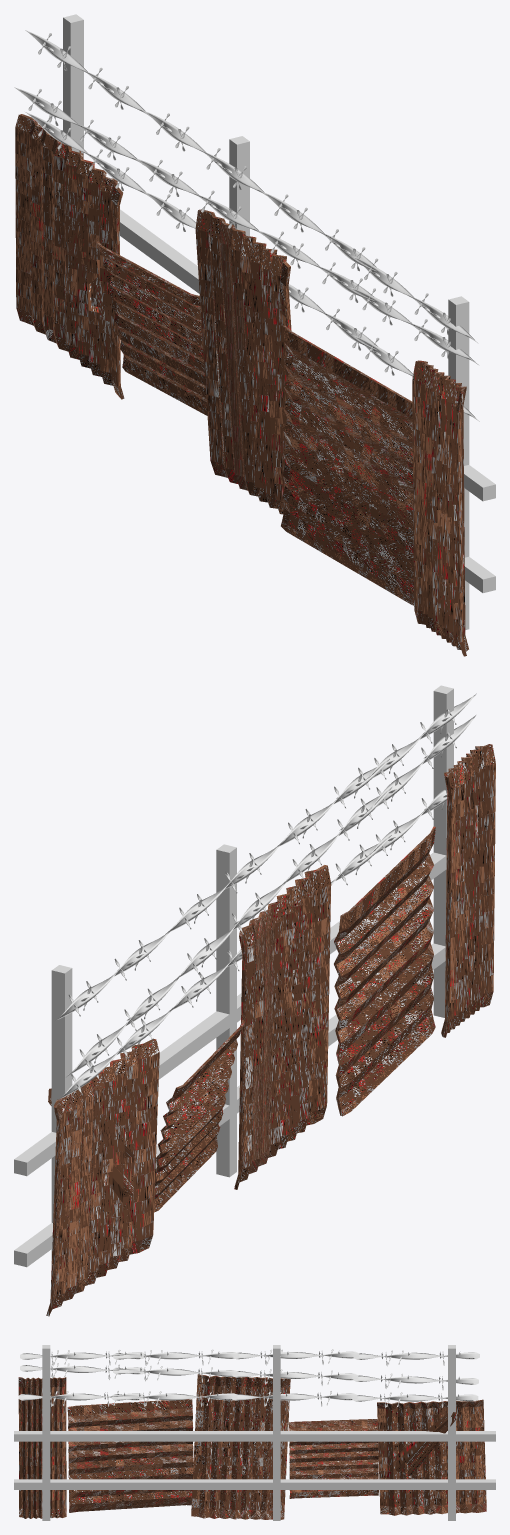
The model's file is cloture-fence-straight-regular.fbx.
3 renders of one model, top to bottom at view 1: azimuth 30°, elevation 25°; view 2: azimuth 150°, elevation 25°; view 3: azimuth 270°, elevation 25°, orthographic. The views are drawn at different scales.
Parts seen in each view (by area): view 1: fenceWall1.004, barbewire.001, Cube.004; view 2: fenceWall1.004, Cube.004, barbewire.001; view 3: fenceWall1.004, Cube.004, barbewire.001.
Boxes of the visible parts, x1,y1,x2,y2 form: fenceWall1.004: (15, 114, 468, 656); barbewire.001: (14, 30, 479, 421); Cube.004: (63, 14, 495, 629); fenceWall1.004: (46, 744, 495, 1316); Cube.004: (14, 685, 453, 1267); barbewire.001: (54, 693, 476, 1100); fenceWall1.004: (18, 1374, 486, 1519); Cube.004: (14, 1345, 495, 1520); barbewire.001: (18, 1349, 479, 1407).
Size of the model in its own units: 462 by 2516 by 6230.
Materials: 1 (1 with a texture image).
